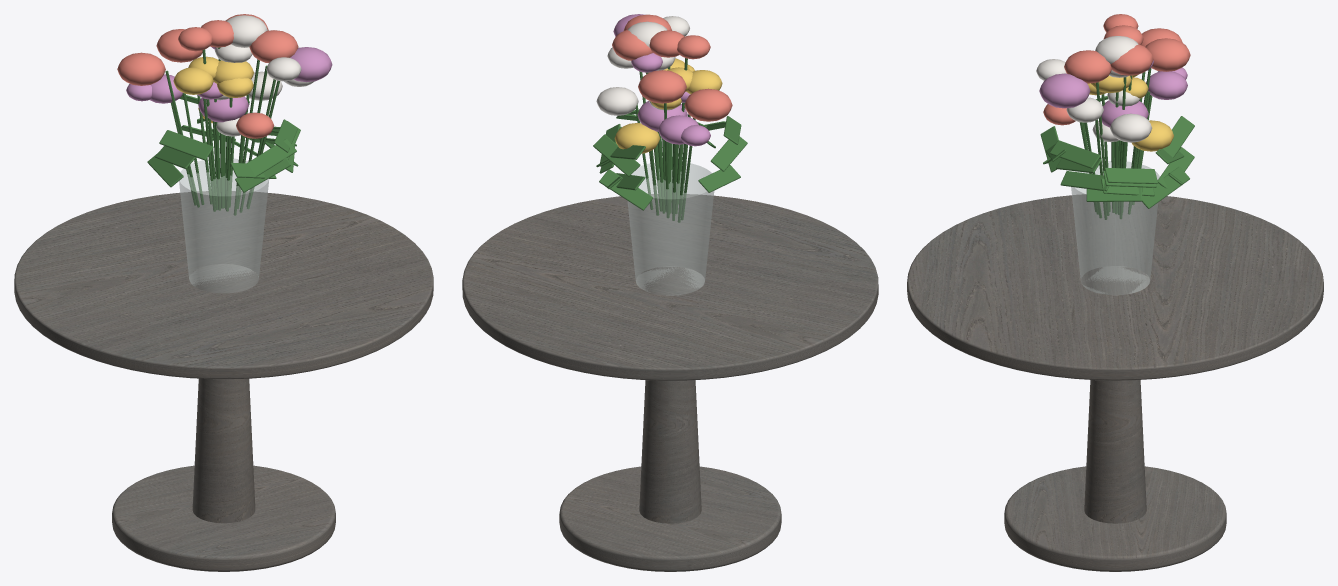
The model's file is hotel-centerpiece.glb.
3 views of the same model, side by side, from view 1: azimuth 30°, elevation 25°; view 2: azimuth 150°, elevation 25°; view 3: azimuth 270°, elevation 25° (orthographic).
Visible parts, largest first — view 1: top, foot, vase, pedestal, bloom21, bloom9, bloom19, bloom3, bloom20, bloom10, bloom5, leaf11 (+12 smaller); view 2: top, foot, vase, pedestal, bloom5, bloom21, bloom12, bloom18, bloom1, leaf0, bloom15, bloom25 (+6 smaller); view 3: top, foot, pedestal, vase, bloom19, bloom9, bloom5, bloom12, bloom15, bloom1, leaf2, bloom18 (+8 smaller).
Boxes of the visible parts, x1,y1,x2,y2 form: top: (14, 191, 433, 379); foot: (112, 465, 335, 571); vase: (179, 158, 269, 292); pedestal: (192, 378, 255, 523); bloom21: (117, 52, 165, 85); bloom9: (249, 30, 298, 63); bloom19: (290, 47, 332, 82); bloom3: (198, 96, 248, 122); bloom20: (226, 15, 267, 47); bloom10: (173, 67, 213, 94); bloom5: (156, 29, 202, 62); leaf11: (159, 130, 213, 160); top: (462, 194, 878, 380); foot: (559, 466, 781, 571); vase: (627, 162, 714, 295); pedestal: (639, 380, 701, 523); bloom5: (638, 70, 686, 103); bloom21: (684, 88, 732, 121); bloom12: (596, 87, 638, 115); bloom18: (614, 123, 660, 153); bloom1: (612, 29, 652, 60); leaf0: (599, 169, 652, 210); bloom15: (658, 115, 698, 144); bloom25: (649, 30, 684, 57); top: (907, 194, 1323, 380); foot: (1004, 466, 1226, 571); pedestal: (1084, 380, 1146, 523); vase: (1071, 161, 1159, 295); bloom19: (1039, 73, 1090, 108); bloom9: (1064, 50, 1111, 83); bloom5: (1145, 38, 1190, 71); bloom12: (1110, 113, 1152, 142); bloom15: (1146, 71, 1187, 99); bloom1: (1110, 44, 1153, 75); leaf2: (1104, 167, 1157, 183); bloom18: (1131, 120, 1173, 151).
Bounding box in the file's own units: 1.2 × 1.58 × 1.2.
Materials: 7 (1 with a texture image).
